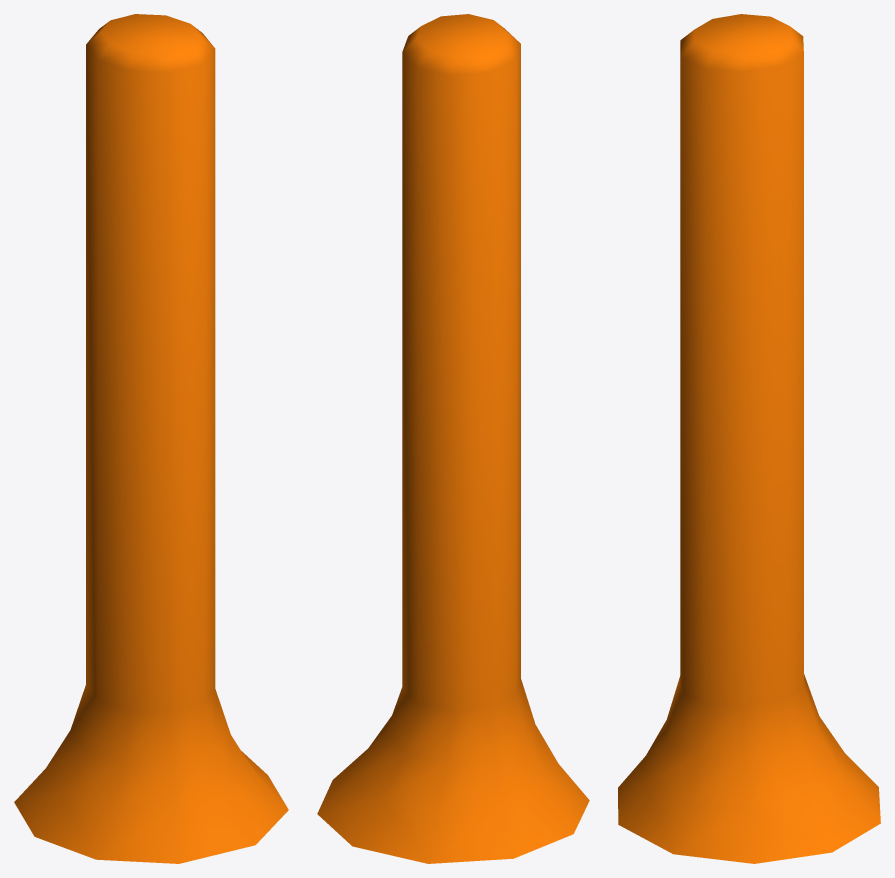
Rendered from TreeTrunk_55.fbx.
The picture shows the model from 3 angles, left to right: view 1: azimuth 30°, elevation 25°; view 2: azimuth 150°, elevation 25°; view 3: azimuth 270°, elevation 25°; orthographic projection.
Visible parts, largest first — view 1: TreeTrunk_55; view 2: TreeTrunk_55; view 3: TreeTrunk_55.
Part boxes in pixels (box(x1,y1,x2,y2)): TreeTrunk_55: box(14, 14, 288, 863); TreeTrunk_55: box(317, 14, 589, 863); TreeTrunk_55: box(618, 14, 880, 863).
Size of the model in its own units: 85.23 by 265 by 82.05.
